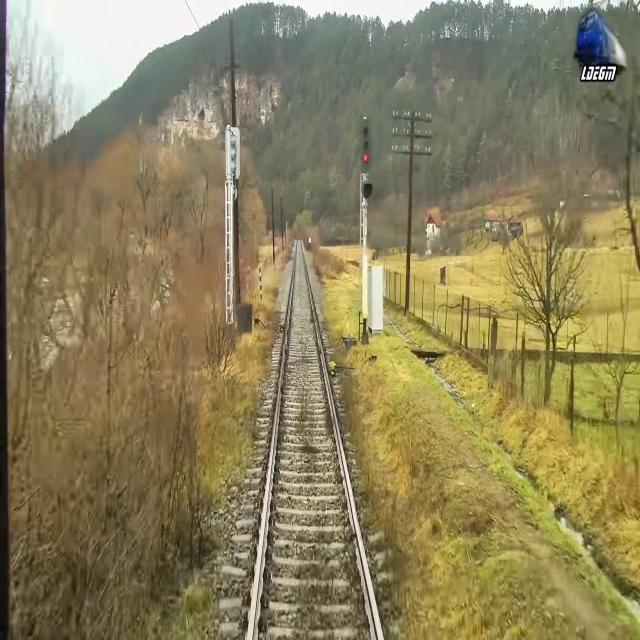rail-track: (252, 238, 379, 639)
